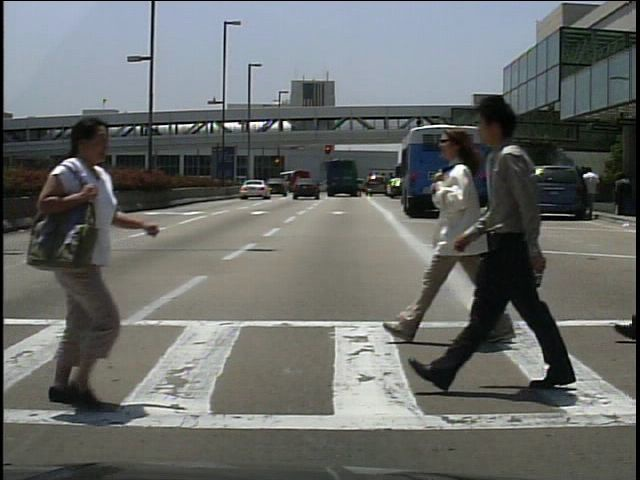person: (453, 81, 590, 399), (36, 121, 154, 413), (403, 117, 494, 351), (485, 162, 503, 215), (507, 166, 525, 216), (585, 166, 602, 218)
